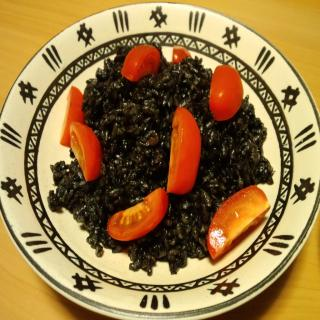tomato: (207, 184, 272, 258), (108, 186, 170, 240), (168, 104, 200, 192), (71, 120, 103, 185), (122, 45, 162, 83), (60, 86, 84, 147), (213, 64, 238, 117), (174, 44, 192, 62)
